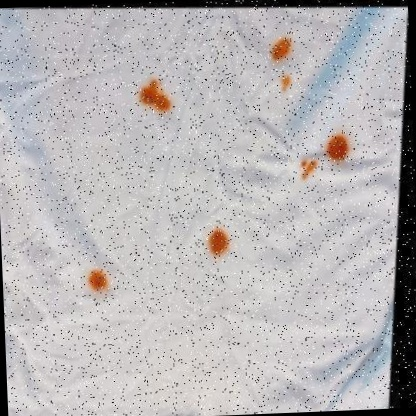kimchi: (131, 77, 172, 116), (265, 34, 298, 66), (204, 225, 231, 260), (81, 271, 117, 296), (328, 134, 349, 165), (298, 158, 317, 181), (277, 75, 292, 93)
